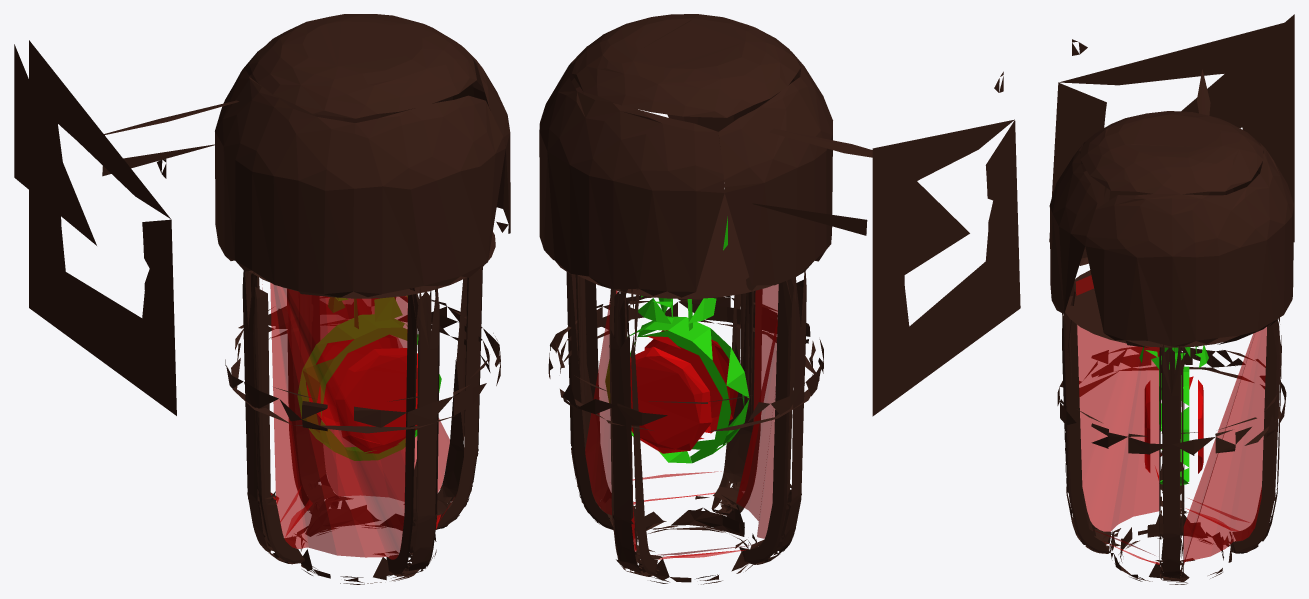
The model's file is AlarmBeacon.obj.
3 renders of one model, left to right at view 1: azimuth 30°, elevation 25°; view 2: azimuth 150°, elevation 25°; view 3: azimuth 270°, elevation 25°, orthographic. The views are drawn at different scales.
Parts seen in each view (by area): view 1: part3, part2, part0, part1; view 2: part3, part2, part0, part1; view 3: part3, part2, part1, part0.
Part boxes in pixels (x1,y1,x2,y2): part3: [14, 14, 510, 584]; part2: [262, 283, 452, 559]; part0: [307, 334, 417, 453]; part1: [297, 296, 441, 460]; part3: [539, 14, 1020, 584]; part2: [585, 284, 778, 559]; part0: [630, 330, 738, 453]; part1: [605, 216, 749, 463]; part3: [1049, 14, 1294, 584]; part2: [1075, 275, 1266, 564]; part1: [1139, 345, 1208, 485]; part0: [1144, 376, 1203, 480].
Bounding box in the file's own units: 0.1446 × 0.1803 × 0.0921.
